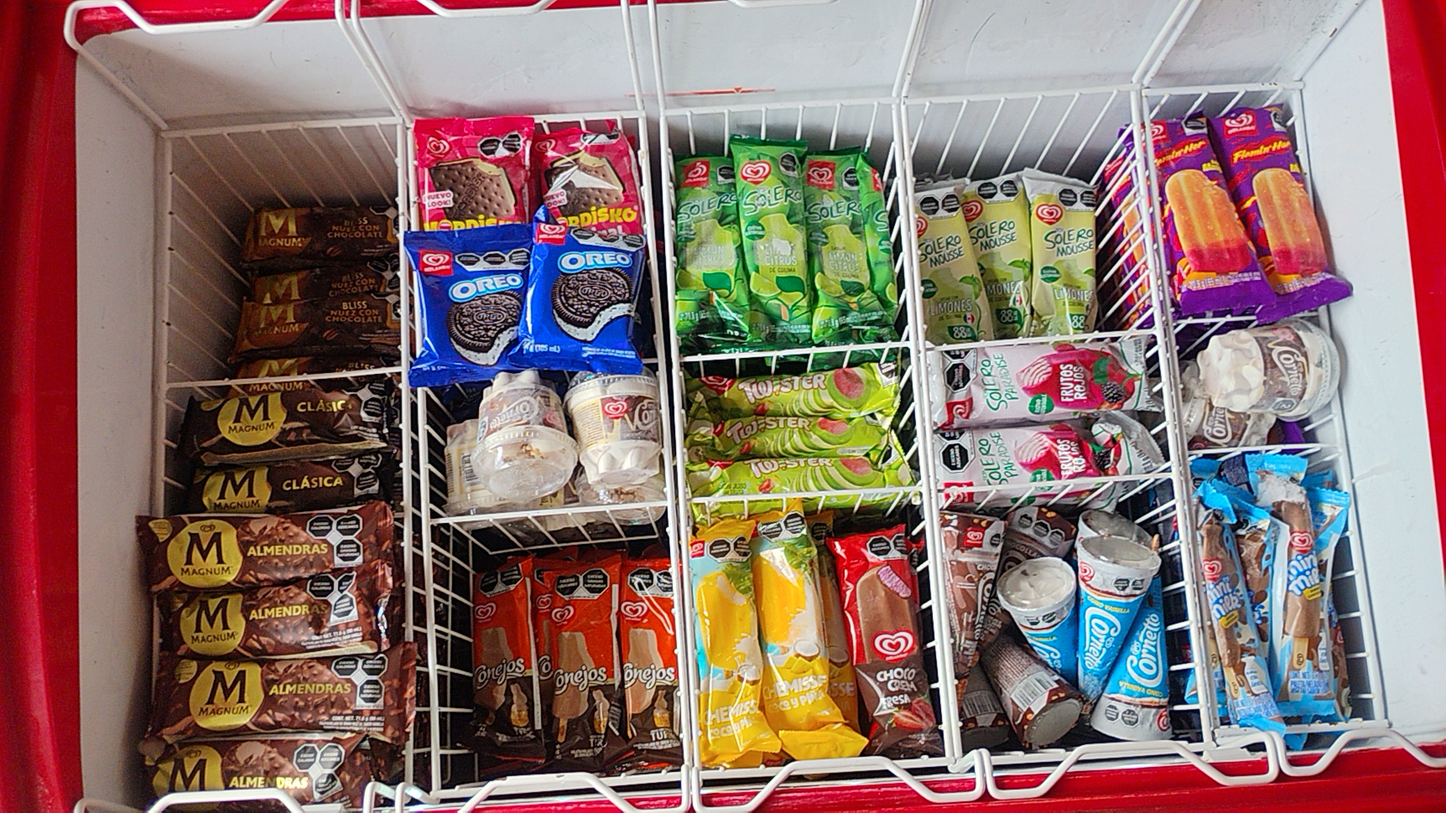Magnum clasica: (172, 389, 401, 451), (177, 467, 398, 501)
Oreo Mordizco: (524, 217, 654, 365), (403, 234, 520, 363)
